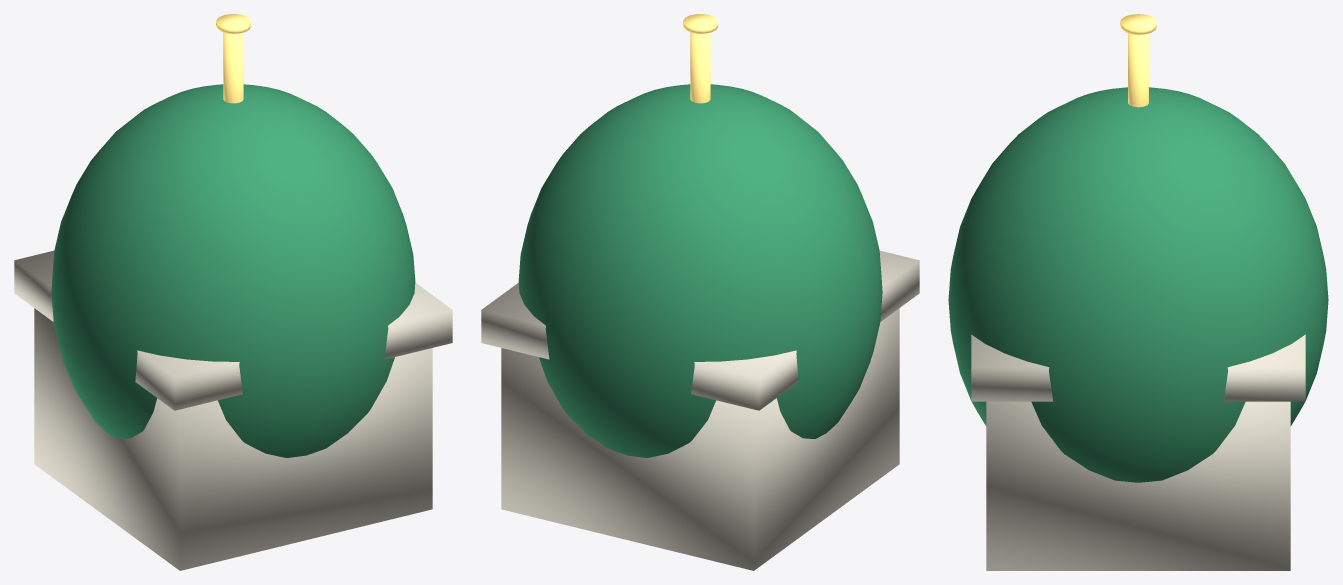
The model's file is dome_nabawi.glb.
3 views of the same model, side by side, from view 1: azimuth 30°, elevation 25°; view 2: azimuth 150°, elevation 25°; view 3: azimuth 270°, elevation 25° (orthographic). The views are drawn at different scales.
Visible parts, largest first — view 1: drum; view 2: drum; view 3: drum.
Boxes of the visible parts, x1=… form: drum: x1=14, y1=14, x2=452, y2=570; drum: x1=481, y1=14, x2=919, y2=570; drum: x1=948, y1=14, x2=1328, y2=570.
Size of the model in its own units: 2.5 by 3.52 by 2.5.
